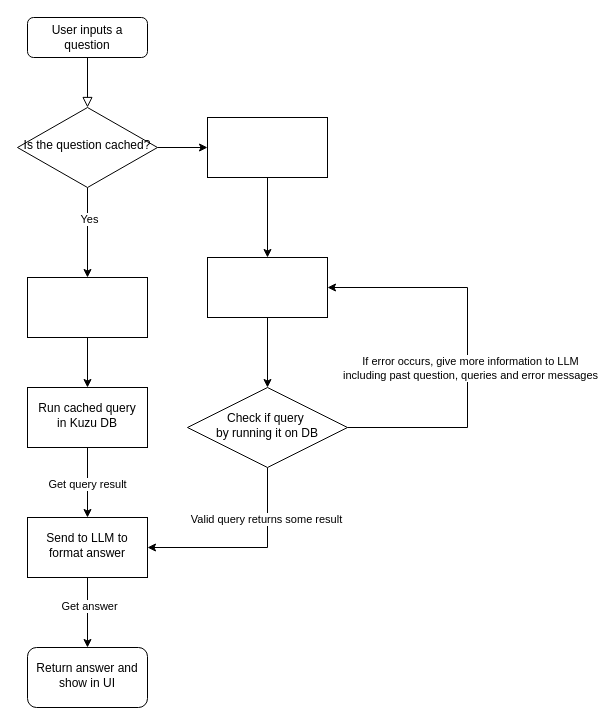
Image size: 615x725. Some labels were removed from this diagram. Here are the shapes that lost their labels. From the top down, the centre of each, then its label:
At [267,147]: "Get few exemplers similar to given question".
At [87,307]: "Get cached query mapped with question".
At [267,287]: "Run LLM".
